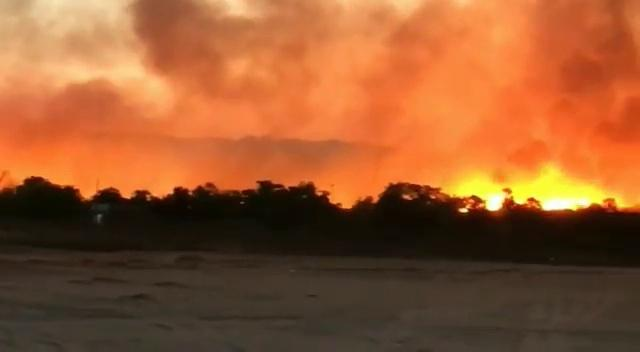fire: (478, 175, 629, 212)
